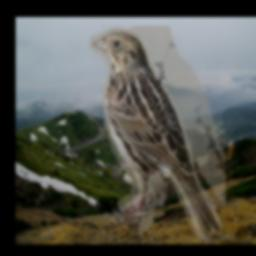Sparrow: (88, 27, 225, 244)
